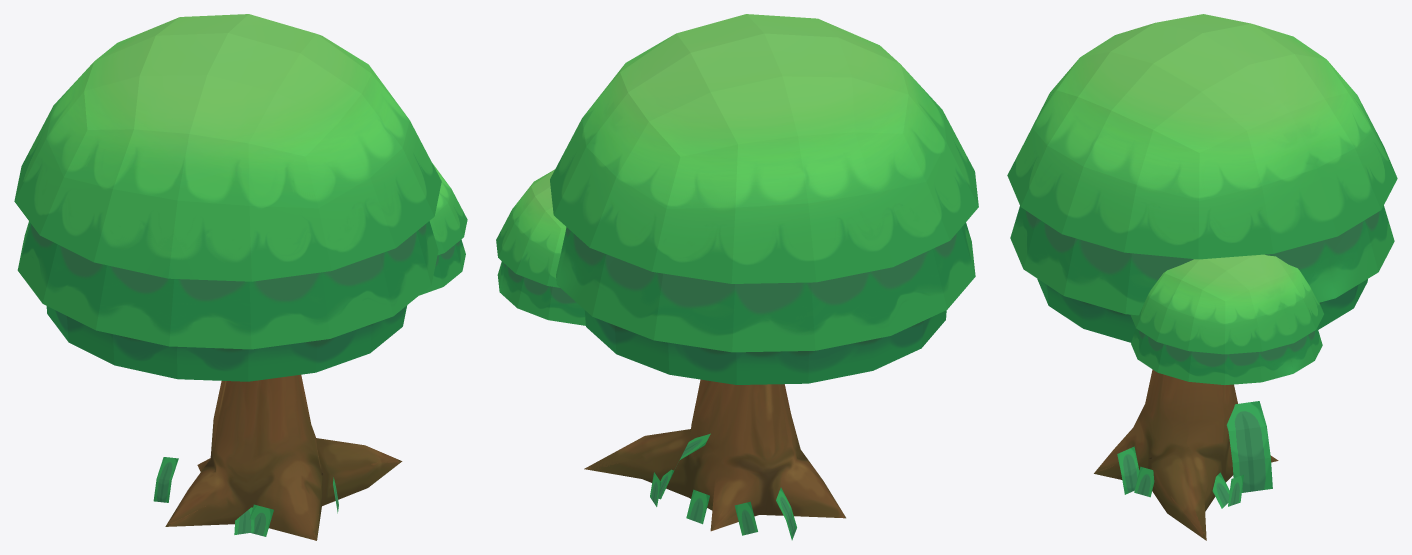
The model's file is tree_1.gltf.
The picture shows the model from 3 angles, left to right: view 1: azimuth 30°, elevation 25°; view 2: azimuth 150°, elevation 25°; view 3: azimuth 270°, elevation 25°; orthographic projection. The views are drawn at different scales.
Visible parts, largest first — view 1: Tree1; view 2: Tree1; view 3: Tree1.
Boxes of the visible parts, x1,y1,x2,y2 form: Tree1: (14,14,467,540); Tree1: (496,14,978,540); Tree1: (1007,14,1397,540).
Size of what is drawn, in the model's own units: 2.89 by 3.08 by 2.53.
2 materials, 2 textured.
